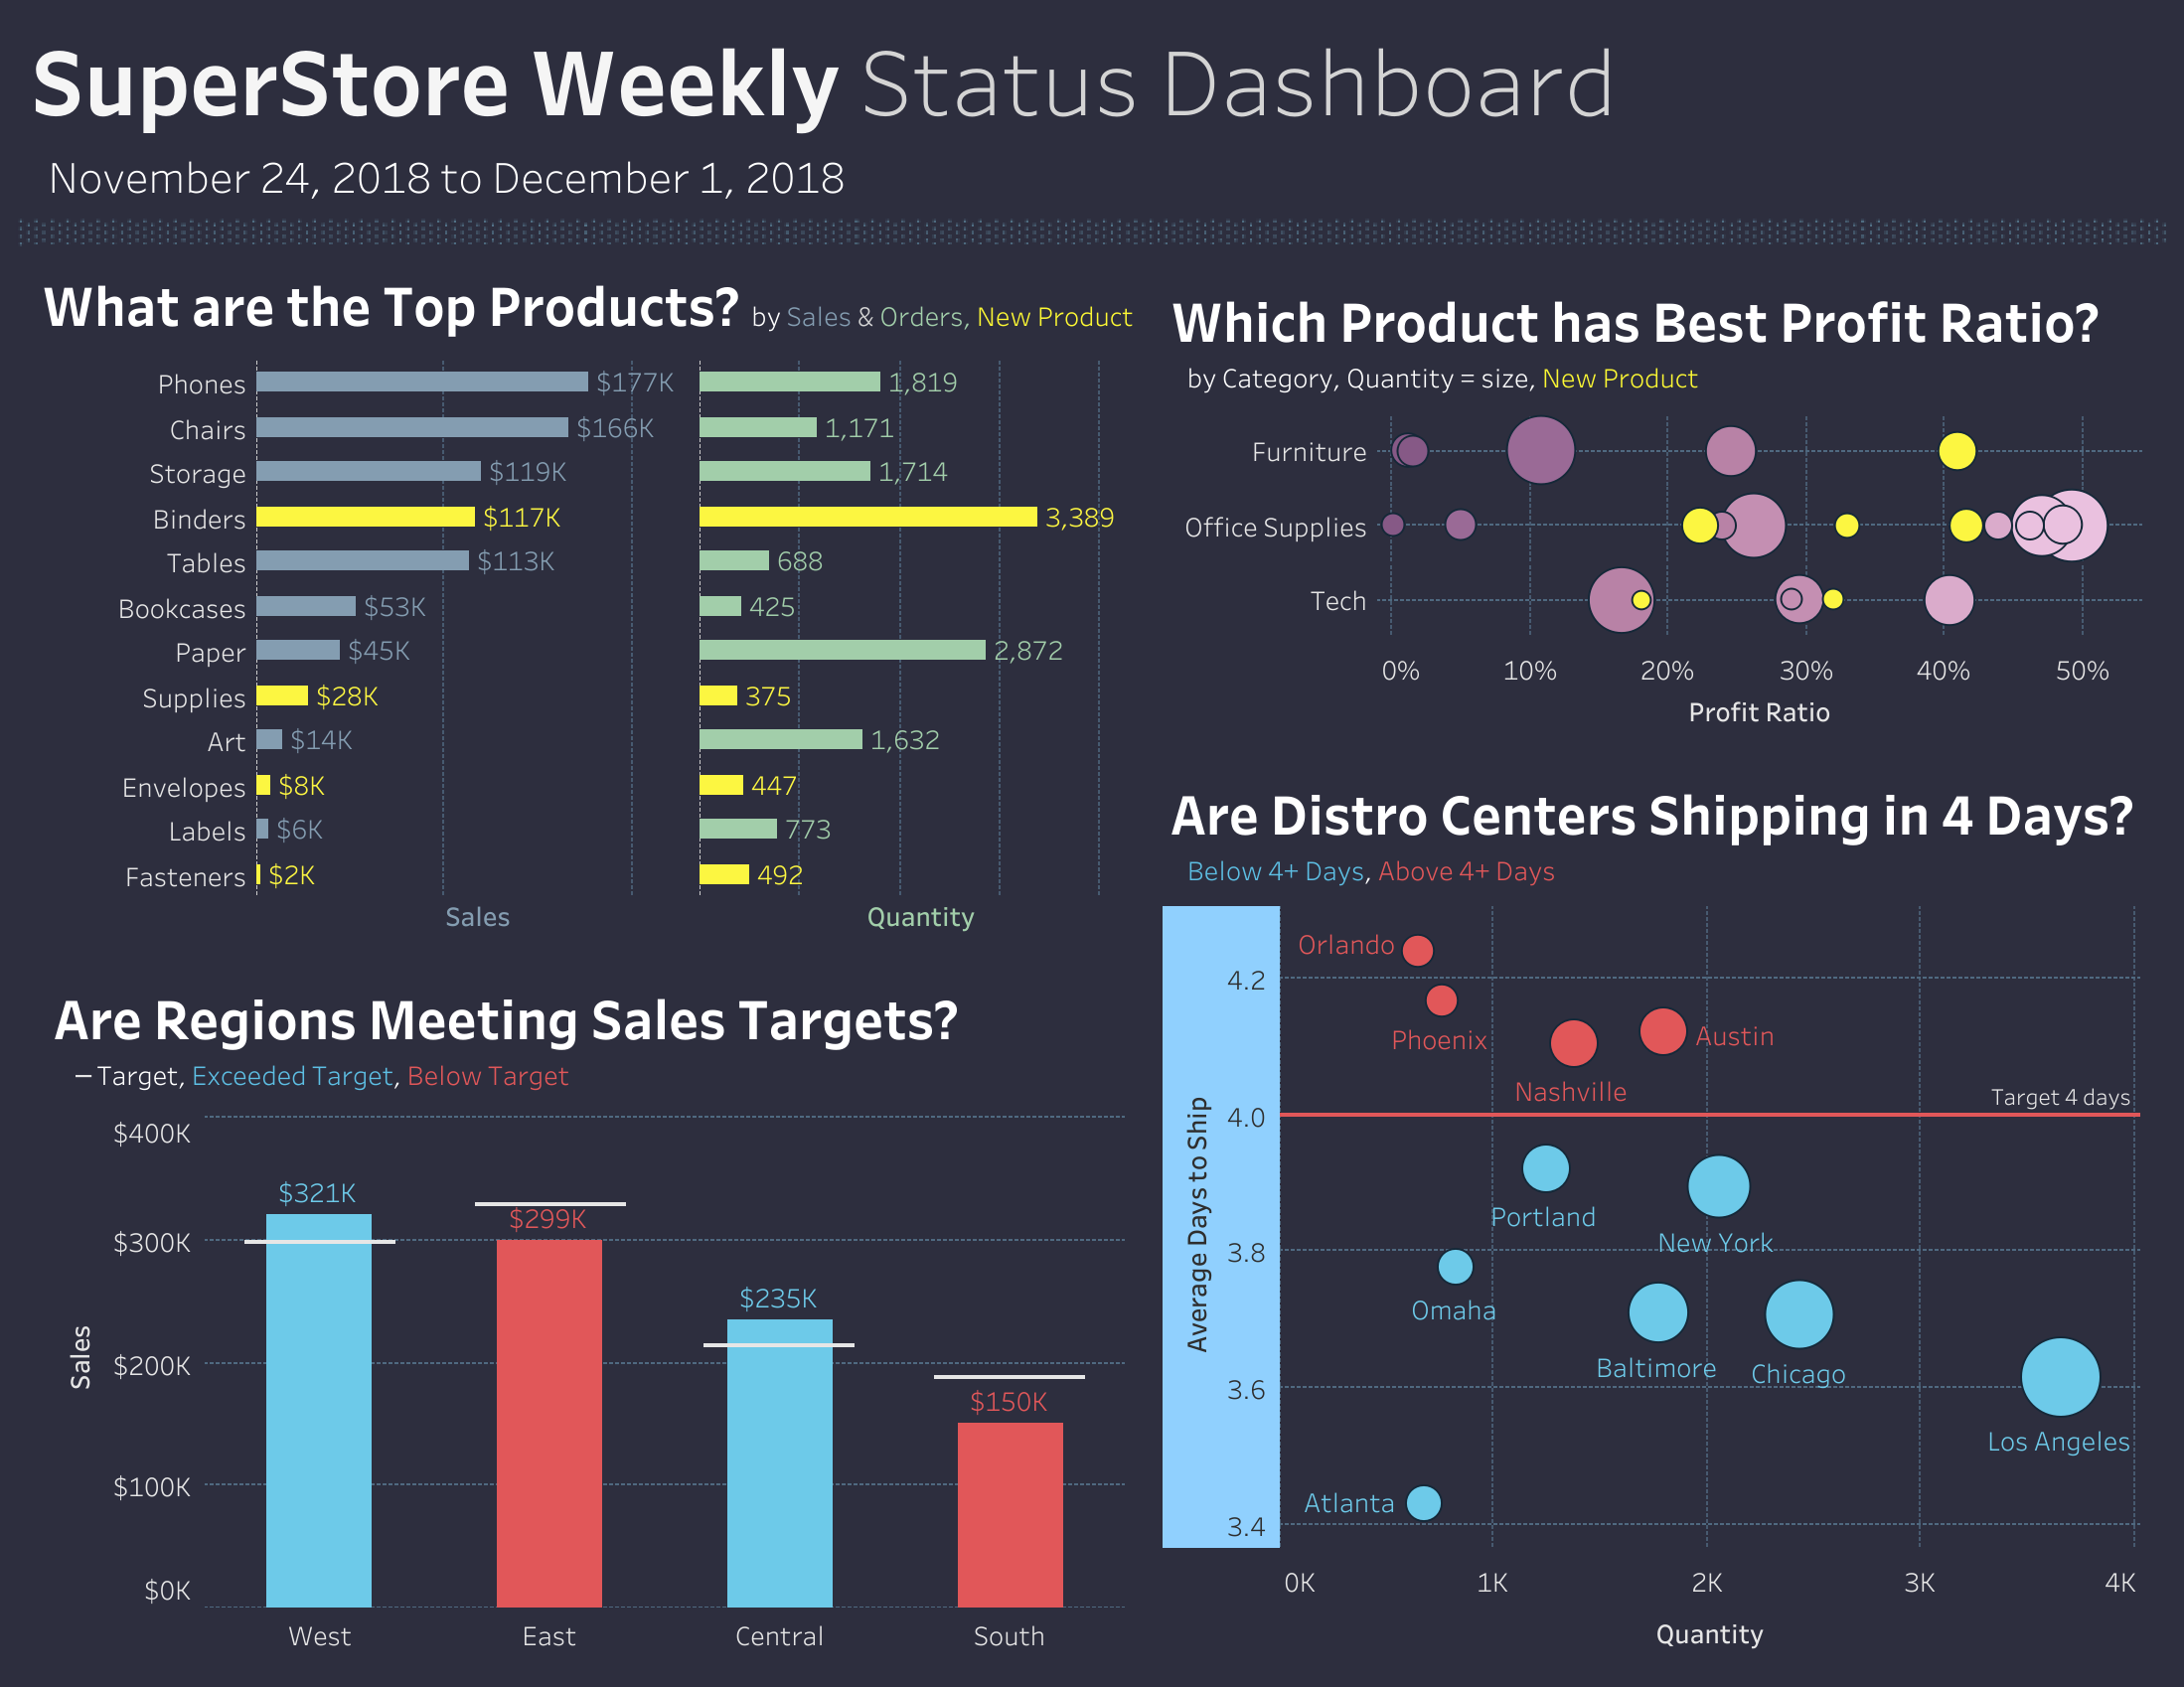

Layout of this report page (visuals, bound fields, positions):
{"tool":"tableau","page":{"name":"3 Q&A Dashboard","canvas":[1100,850],"ordinal":2},"visuals":[{"type":"text","box":[8,8,1084,116]},{"type":"worksheet","title":"Date","mark":"Automatic","box":[20,73,584,36]},{"type":"image","param":"Image/Border5.png","box":[8,110,1083,16]},{"type":"text","box":[11,123,1083,6]},{"type":"worksheet","title":"Top Products Sales","mark":"Automatic","rows":["Sub-Category"],"cols":["Sales","Quantity"],"box":[8,124,573,359]},{"type":"worksheet","title":"Profit Ratio by Product","mark":"Circle","rows":["Category","Calculation_330733113630572547"],"cols":["Calculation_5571209093911105"],"box":[581,124,511,256]},{"type":"worksheet","title":"Distro Center","mark":"Circle","rows":["Days to Ship  (copy)"],"cols":["Quantity"],"box":[581,380,511,462]},{"type":"worksheet","title":"Regional Sales","mark":"Bar","rows":["Sales","Calculation_97390360428867587"],"cols":["Region"],"box":[8,483,573,359]}]}

Visuals, with their boxes in screenshot pixels (x1, y1, x2, y2), scaled from the page's 1100x850 canvas onto the 2184x1687 screenshot:
text: detection(16, 16, 2168, 246)
"Date" worksheet: detection(40, 145, 1199, 217)
image: detection(16, 219, 2166, 250)
text: detection(22, 244, 2172, 256)
"Top Products Sales" worksheet: detection(16, 246, 1154, 959)
"Profit Ratio by Product" worksheet (Circle marks): detection(1154, 246, 2168, 754)
"Distro Center" worksheet (Circle marks): detection(1154, 754, 2168, 1671)
"Regional Sales" worksheet (Bar marks): detection(16, 959, 1154, 1671)
